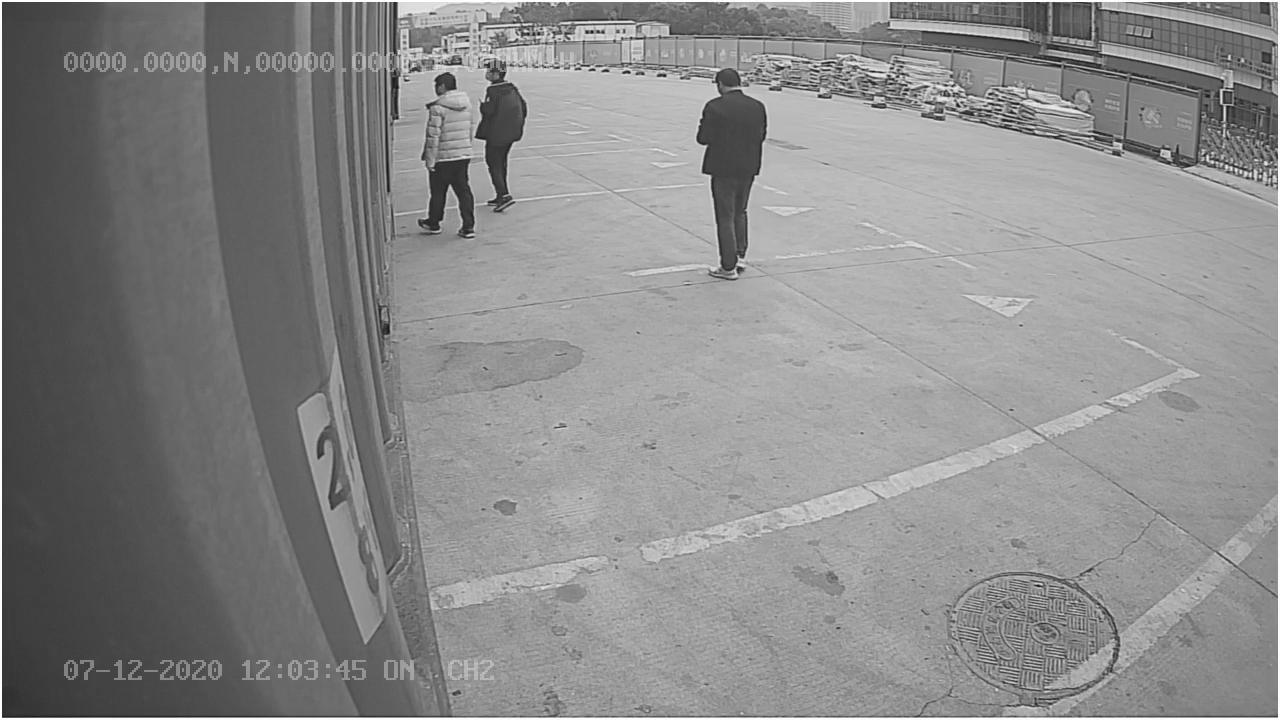person: (686, 65, 765, 280)
